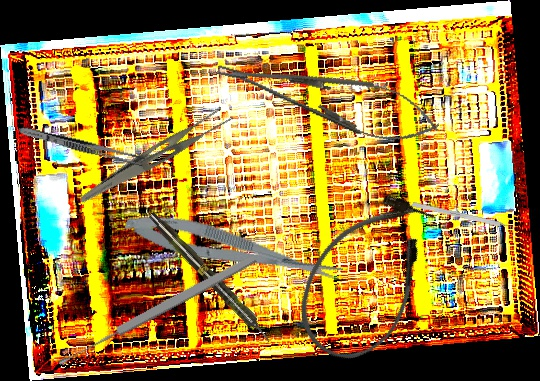Cannula: (278, 175, 456, 378)
Dressing Forceps: (77, 97, 237, 220), (17, 123, 146, 168)
Handpiece: (145, 209, 276, 347)
Hook Surgical: (411, 201, 522, 232)
Micro Scissor: (122, 204, 345, 296)
Needle Holder: (210, 42, 446, 154)
Surgical Spoon: (55, 252, 259, 369)
